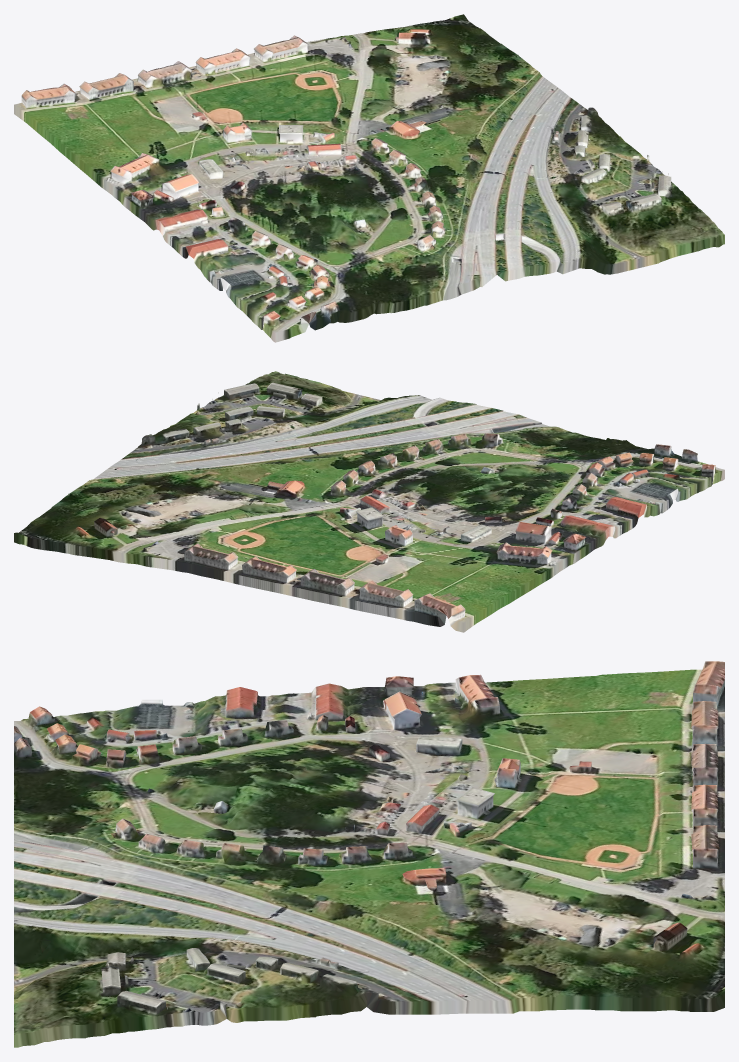
File: z16-10472-25324-h0-yup-uvflip-v3-world.glb
3 renders of one model, top to bottom at view 1: azimuth 30°, elevation 25°; view 2: azimuth 150°, elevation 25°; view 3: azimuth 270°, elevation 25°, orthographic. The views are drawn at different scales.
Bounding box in the file's own units: 483 × 74.88 × 485.
Materials: 1 (1 with a texture image).
